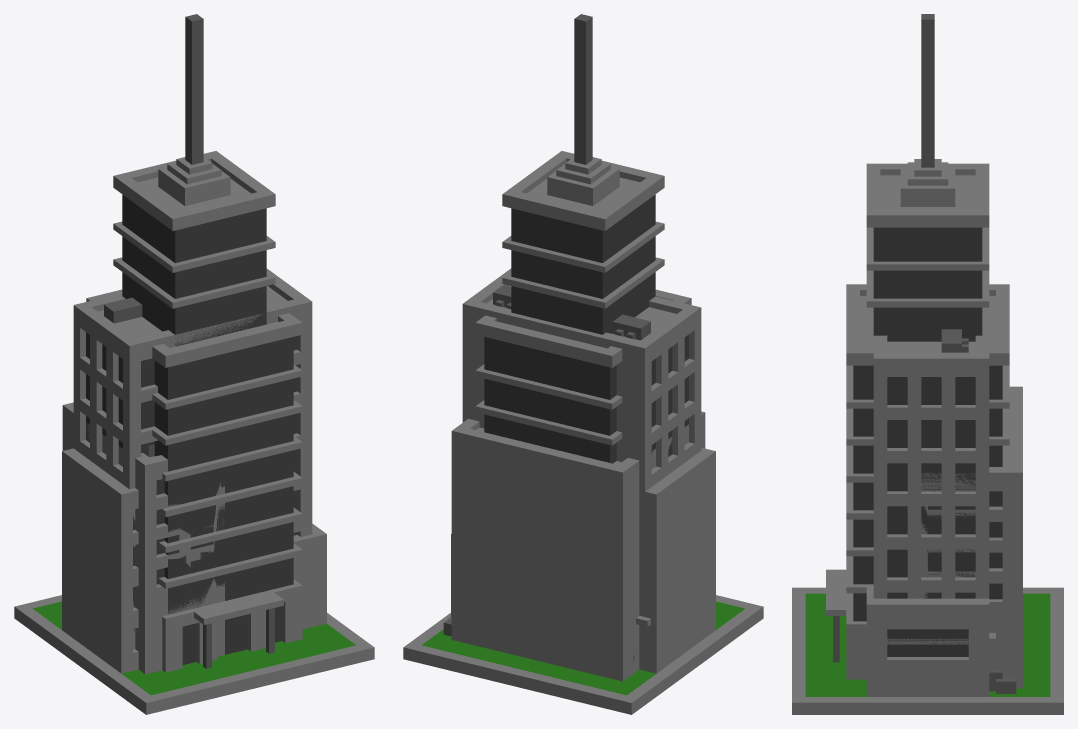
Rendered from buildingtiles.obj.
3 renders of one model, left to right at view 1: azimuth 30°, elevation 25°; view 2: azimuth 150°, elevation 25°; view 3: azimuth 270°, elevation 25°, orthographic. The views are drawn at different scales.
Visible parts, largest first — view 1: Level9, Level8, Level6, Level7, Level0, Level2, Level1, Level4; view 2: Level7, Level9, Level8, Level6, Level0; view 3: Level9, Level8, Level6, Level7, Level0, Level2, Level4.
Part boxes in pixels (x1,y1,x2,y2): Level9: [35, 14, 338, 672]; Level8: [33, 268, 338, 668]; Level6: [62, 448, 326, 673]; Level7: [35, 402, 339, 674]; Level0: [14, 595, 374, 714]; Level2: [37, 608, 355, 695]; Level1: [43, 614, 350, 693]; Level4: [56, 622, 353, 694]; Level7: [423, 411, 705, 695]; Level9: [425, 14, 691, 691]; Level8: [422, 268, 701, 694]; Level6: [451, 447, 715, 673]; Level0: [403, 595, 763, 714]; Level9: [846, 14, 1050, 696]; Level8: [826, 307, 1050, 696]; Level6: [866, 587, 1002, 696]; Level7: [921, 386, 1049, 696]; Level0: [792, 587, 1063, 714]; Level2: [805, 593, 1041, 696]; Level4: [805, 593, 1047, 696].
Size of the model in its own units: 10 by 26 by 10.
